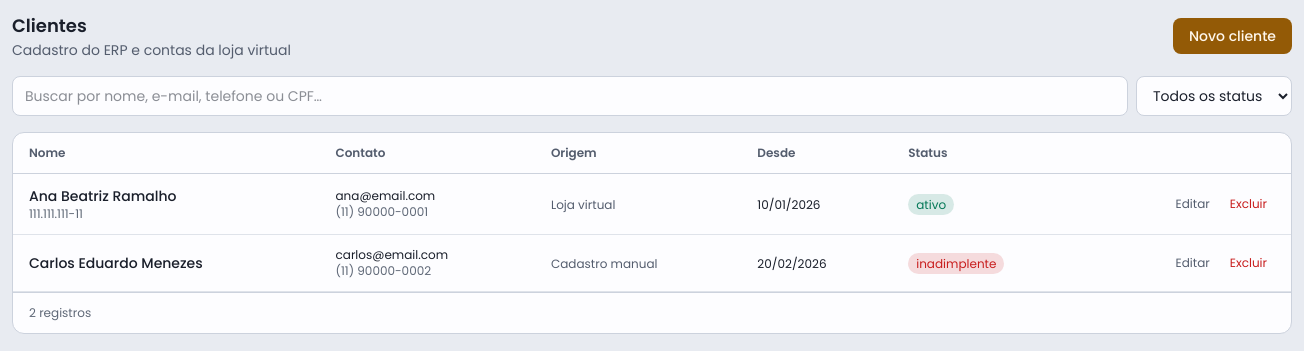
Test: listagem › avisa quando o filtro não devolve nada
Expected: the text "Ana Beatriz Ramalho" is shown, [29,186,176,206]
Type "inexistente" into the field named "Buscar clientes" at coordinates (570, 96), box [12,76,1128,116]
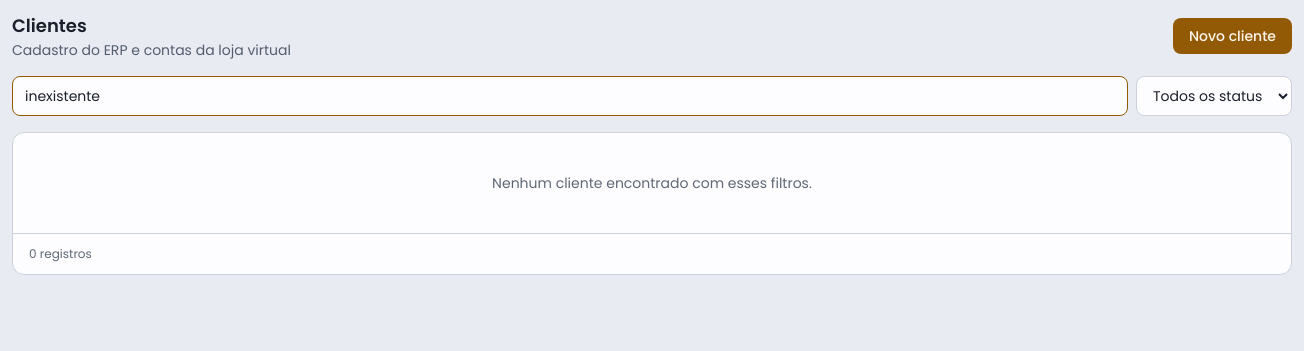
Result: the text "Nenhum cliente encontrado com esses filtros." is shown at [492,173,812,193]
